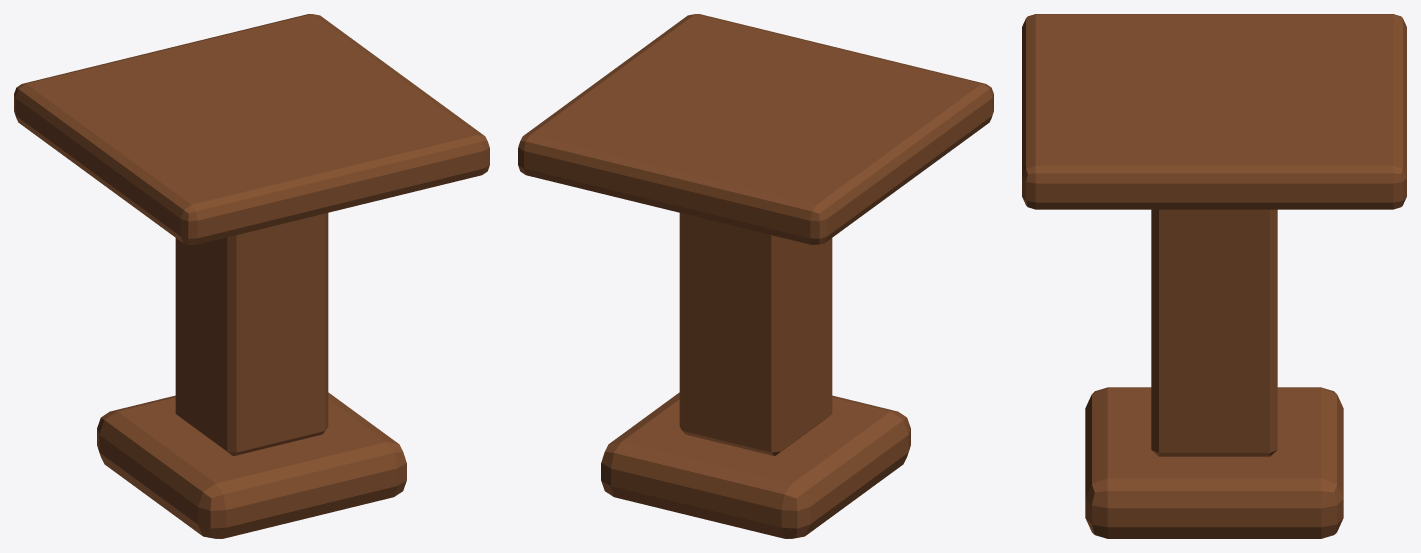
File: mesinha.fbx
The picture shows the model from 3 angles, left to right: view 1: azimuth 30°, elevation 25°; view 2: azimuth 150°, elevation 25°; view 3: azimuth 270°, elevation 25°; orthographic projection. The views are drawn at different scales.
Parts seen in each view (by area): view 1: Tampo, Coluna, Base; view 2: Tampo, Coluna, Base; view 3: Tampo, Coluna, Base.
Part boxes in pixels (left/top/right/bottom): Tampo: left=14, top=14, right=489, bottom=244; Coluna: left=175, top=213, right=328, bottom=456; Base: left=97, top=392, right=406, bottom=538; Tampo: left=518, top=14, right=993, bottom=244; Coluna: left=679, top=213, right=832, bottom=456; Base: left=601, top=392, right=910, bottom=538; Tampo: left=1022, top=14, right=1406, bottom=209; Coluna: left=1151, top=209, right=1277, bottom=456; Base: left=1085, top=387, right=1343, bottom=538.
Bounding box in the file's own units: 128 × 148 × 128.
